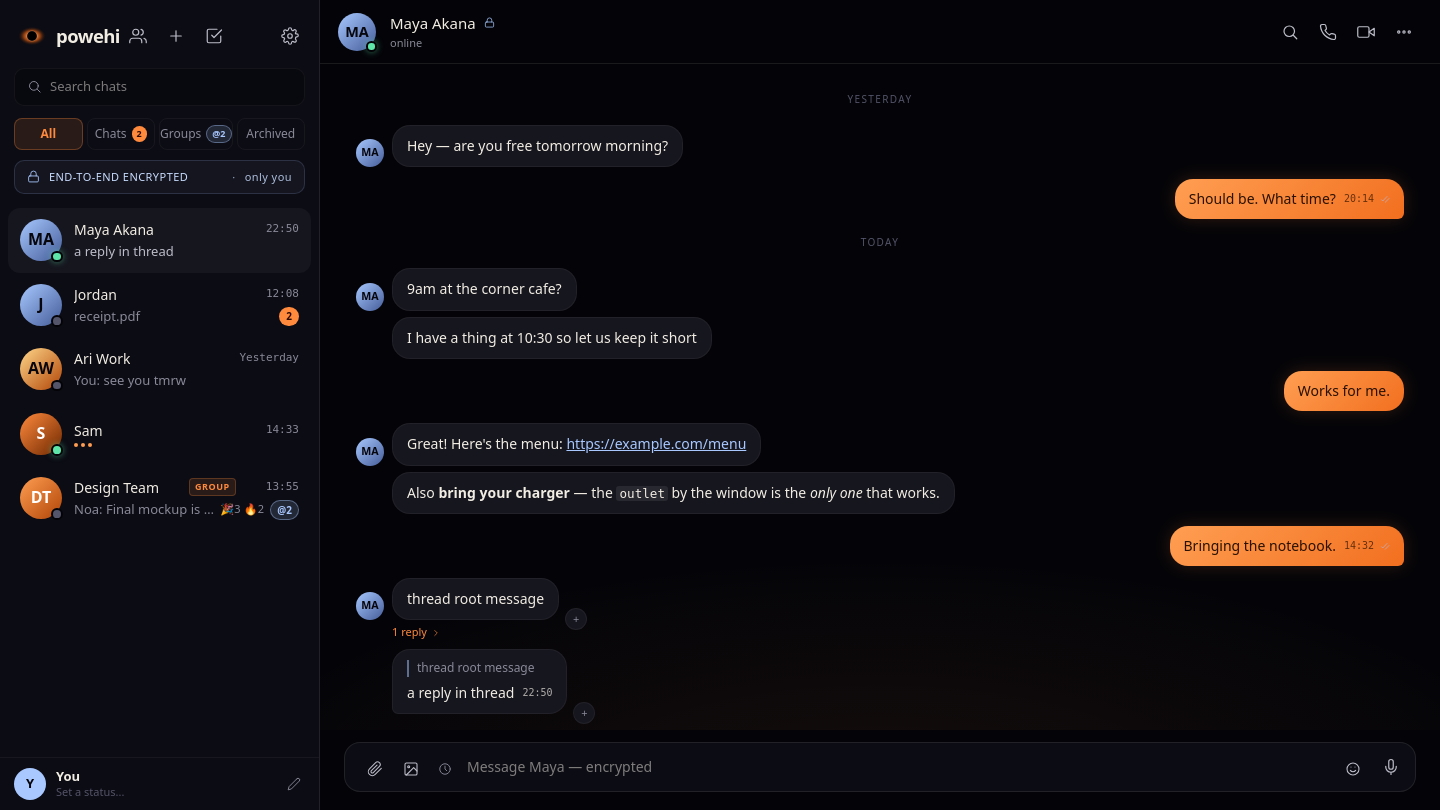
ChatLayout — thread panel emoji reactions › reply message with peer reaction shows reaction chip in thread panel
The width and height of the screenshot is (1440, 810).
(page scrolled)
Click the button with test id "thread-replies-btn".
click(398, 633)  # box [356,622,441,643]
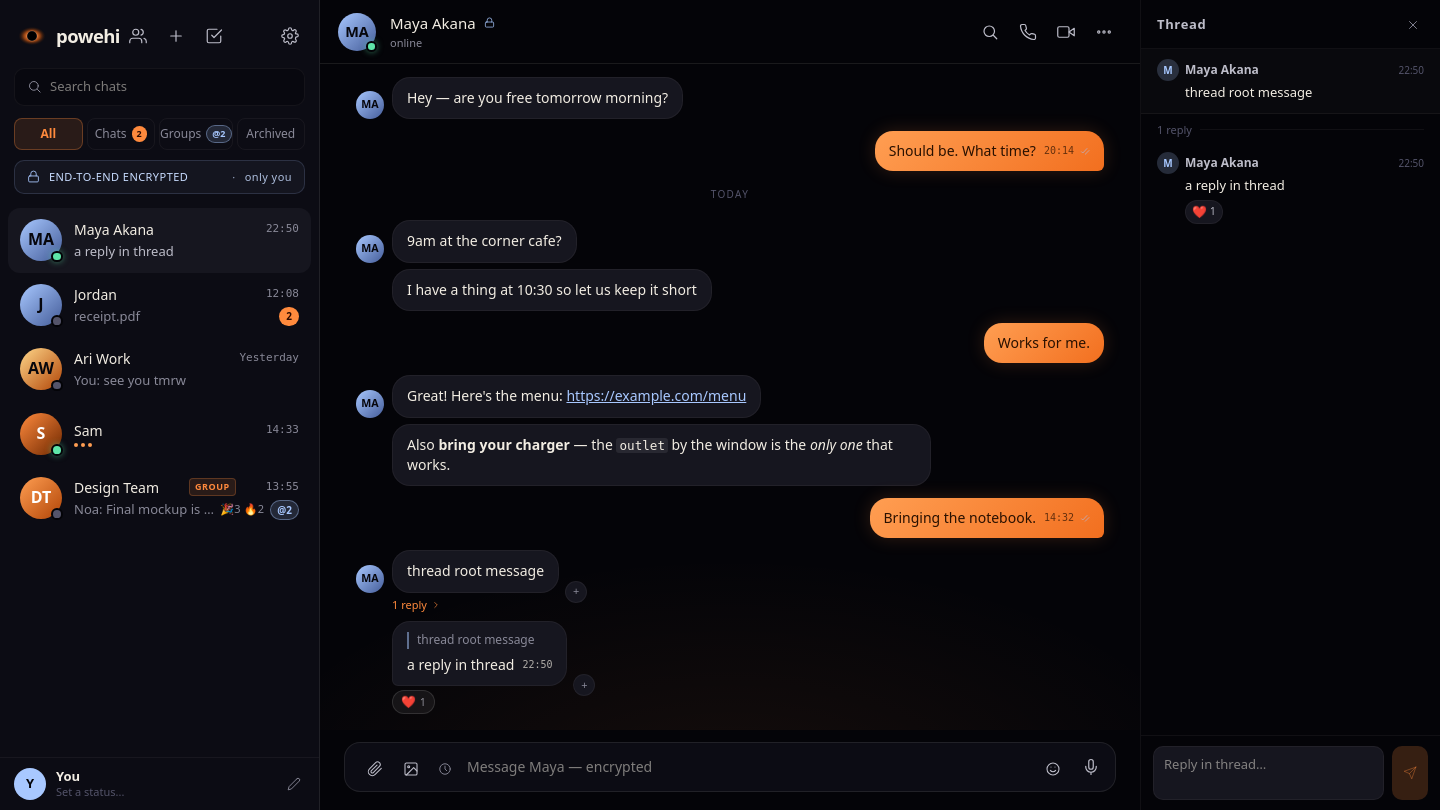
Result: the button with test id "thread-reaction-chip-❤️" is shown at [1185,200,1223,224]
